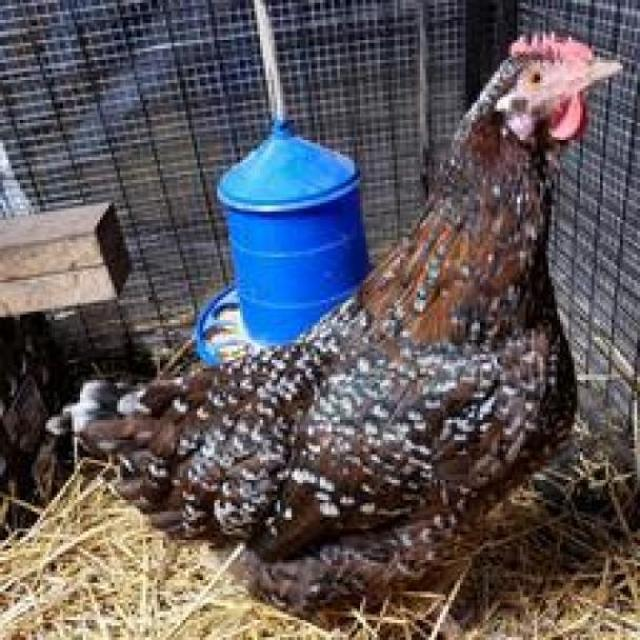Chicken: (74, 17, 638, 630)
